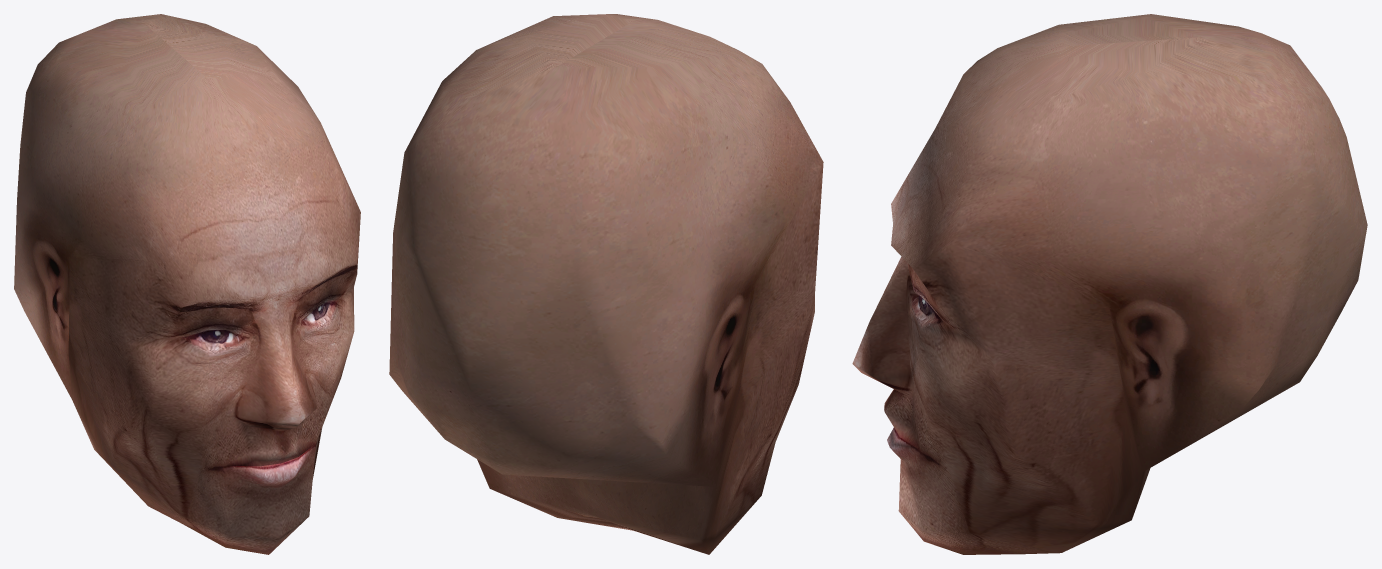
File: b_n_imperial_m_head_01.glb
3 views of the same model, side by side, from view 1: azimuth 30°, elevation 25°; view 2: azimuth 150°, elevation 25°; view 3: azimuth 270°, elevation 25° (orthographic). The views are drawn at different scales.
Visible parts, largest first — view 1: Tri B_N_Imperial_M_Head_01; view 2: Tri B_N_Imperial_M_Head_01; view 3: Tri B_N_Imperial_M_Head_01.
Part boxes in pixels (<box>): Tri B_N_Imperial_M_Head_01: <box>14,14,360,554</box>; Tri B_N_Imperial_M_Head_01: <box>389,14,823,554</box>; Tri B_N_Imperial_M_Head_01: <box>852,14,1367,554</box>.
Size of the model in its own units: 0.0956 by 0.1606 by 0.1487.
Materials: 1 (1 with a texture image).
